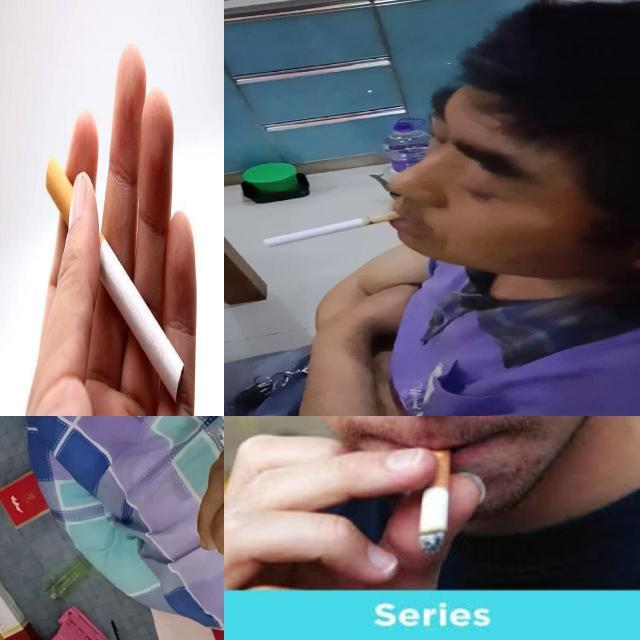cigarette: (45, 153, 185, 404), (263, 212, 402, 248), (418, 450, 452, 554)
